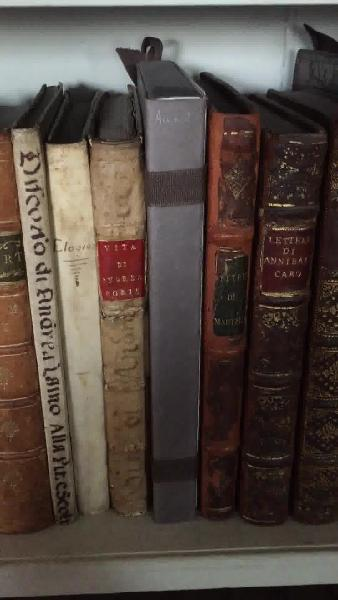Aa6-24: (10, 125, 81, 525)
Aa6-25: (41, 141, 124, 522)
Aa6-26: (85, 130, 157, 534)
Aa6-28: (136, 98, 214, 529)
Aa6-29: (198, 89, 244, 518)
Aa6-30: (245, 136, 316, 527)
